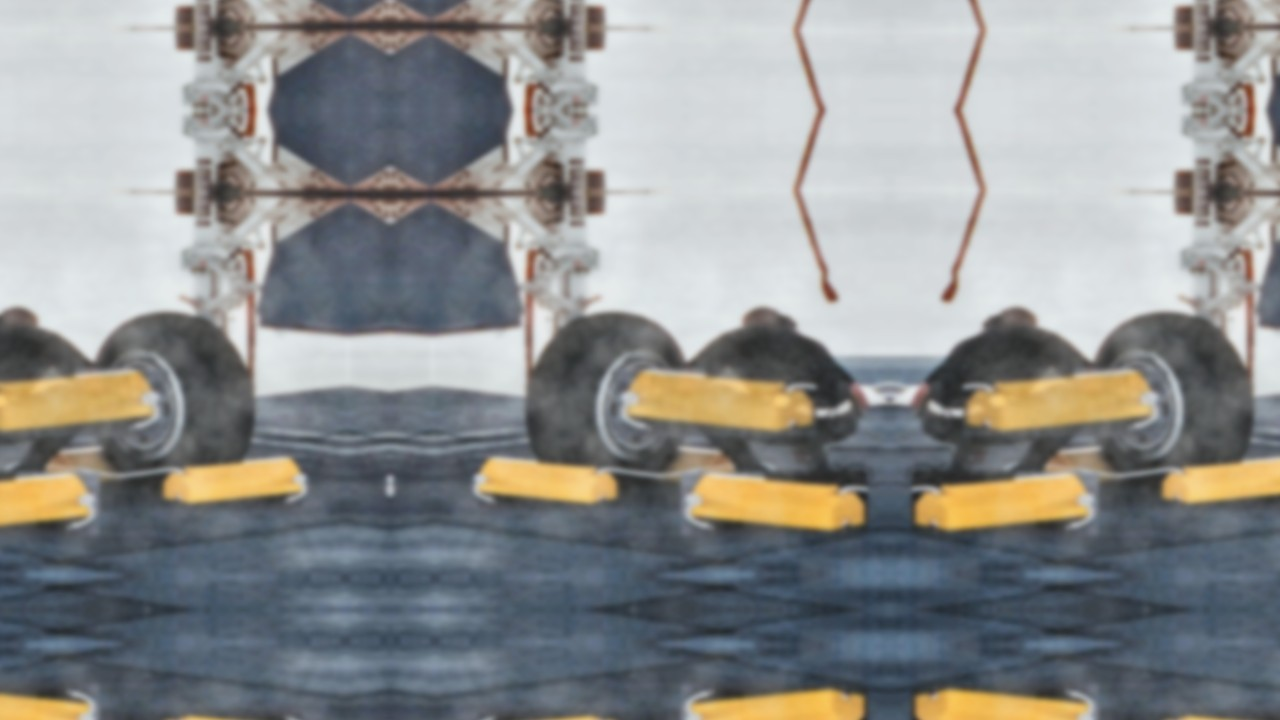chock: (615, 366, 817, 438), (963, 366, 1165, 438), (680, 470, 868, 536), (912, 470, 1100, 536), (0, 366, 165, 438), (160, 455, 310, 508), (470, 455, 620, 508), (680, 684, 868, 720), (912, 684, 1100, 720), (0, 470, 100, 536), (1160, 455, 1280, 508), (38, 446, 166, 486), (614, 446, 742, 486), (1038, 446, 1166, 486), (0, 684, 100, 720), (160, 712, 310, 720), (470, 712, 620, 720), (1160, 712, 1280, 720)
wheel: (87, 311, 254, 476), (526, 311, 693, 476), (1087, 311, 1254, 476)
